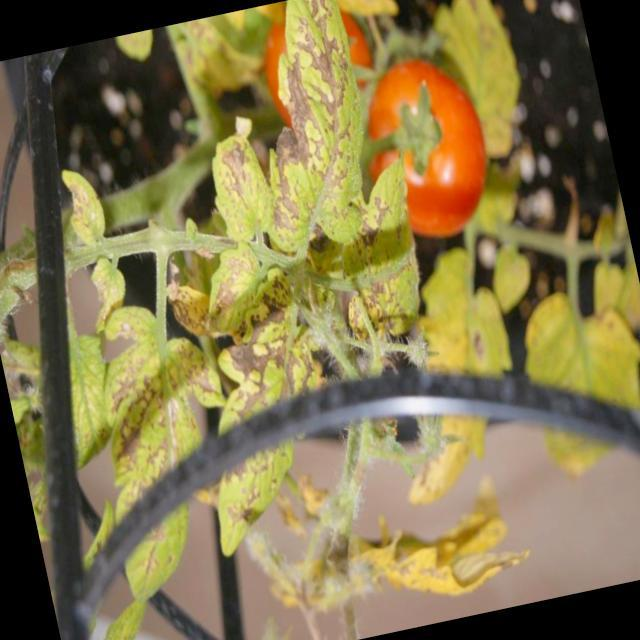Tomato bacterial spot leaf: (65, 272, 256, 604), (162, 300, 350, 574), (219, 0, 398, 280), (323, 157, 439, 351), (196, 114, 280, 254)
